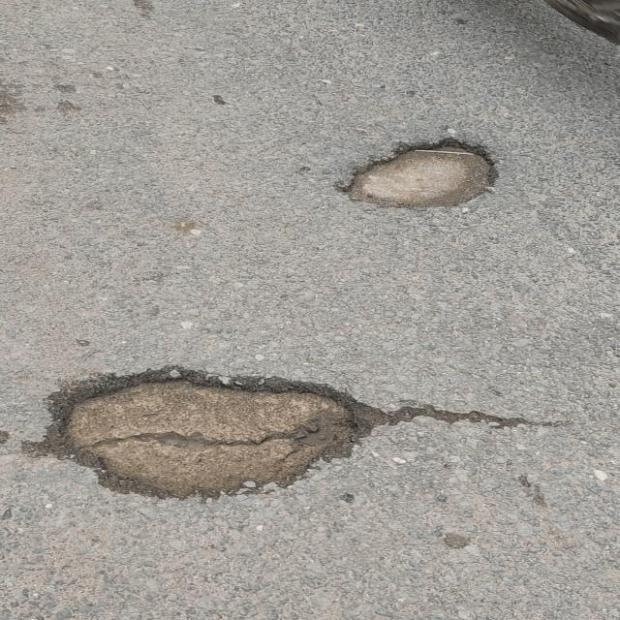lubang: (46, 369, 386, 497), (342, 141, 497, 207)
